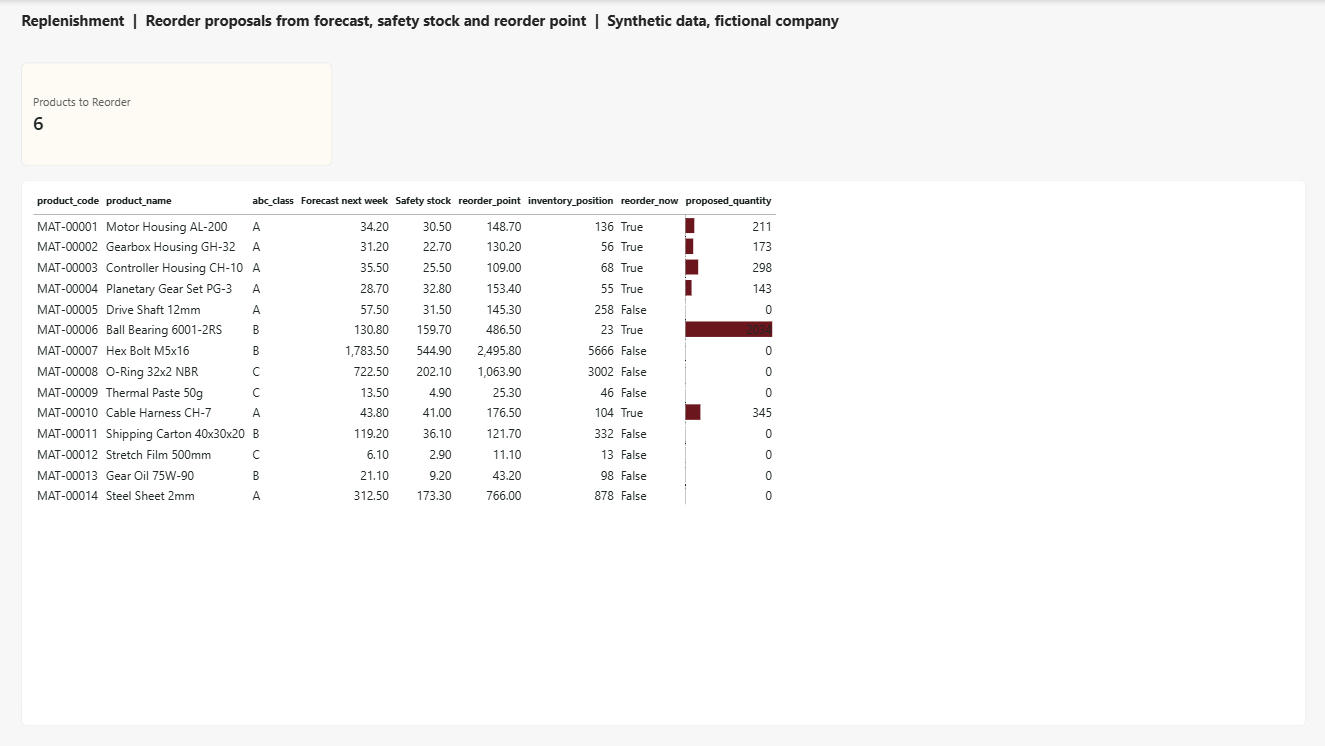

What the dashboard file says about the page in this screenshot:
{"tool":"powerbi","page":{"name":"Replenishment","canvas":[1920,1080],"ordinal":3},"visuals":[{"type":"cardVisual","fields":{"Data":["Measures (2).Products to Reorder"]},"box":[30,90,450,150],"z":0},{"type":"tableEx","fields":{"Values":["dim_product.product_code","dim_product.product_name","snapshot_planning.abc_class","Sum(snapshot_planning.forecast_next_week)","Sum(snapshot_planning.safety_stock)","snapshot_planning.reorder_point","snapshot_planning.inventory_position","snapshot_planning.reorder_now","snapshot_planning.proposed_quantity"]},"box":[30,260,1860,790],"z":1},{"type":"textbox","box":[480,90,1410,150],"z":2},{"type":"textbox","box":[30,15,1820,60],"z":3}]}

Visuals, with their boxes in screenshot pixels (x1, y1, x2, y2), scaled from the page's 1920x1080 canvas onto the 1325x746 screenshot:
cardVisual - Measures (2).Products to Reorder: 21/62/331/166
tableEx - dim_product.product_code x dim_product.product_name: 21/180/1304/725
textbox: 331/62/1304/166
textbox: 21/10/1277/52
